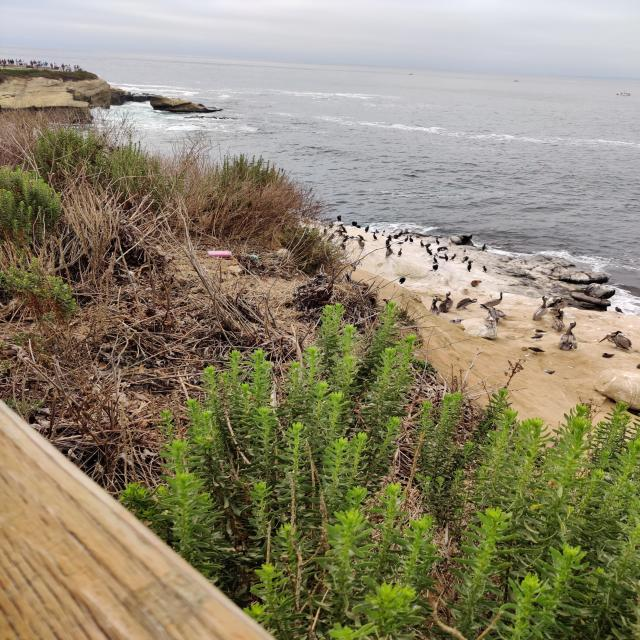litter: (234, 255, 257, 262), (208, 251, 231, 257)
